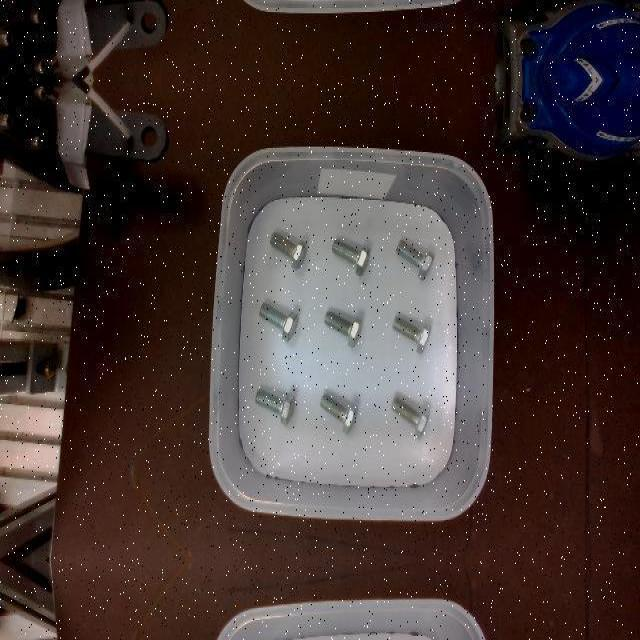screw: (390, 395, 430, 437), (396, 239, 435, 281), (258, 300, 298, 340), (319, 393, 357, 435), (254, 388, 295, 426), (331, 238, 370, 276), (324, 309, 363, 347), (392, 315, 431, 353), (269, 230, 307, 268)
